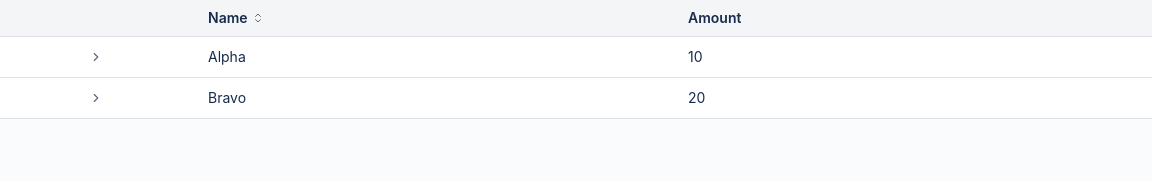
Test: <DataTable> › toggling the expand chevron mounts and unmounts the detail row in the DOM
Click the button named "expand row" at (96, 57), box [84,45,108,69]
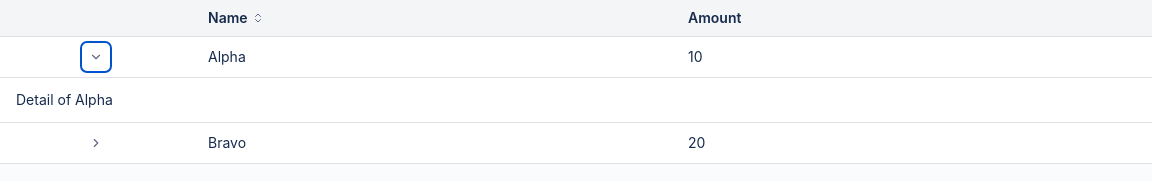
Now the text with test id "detail-content" reads "Detail of Alpha", box [16,91,113,108]
Click the button named "expand row" at (96, 57), box [84,45,108,69]
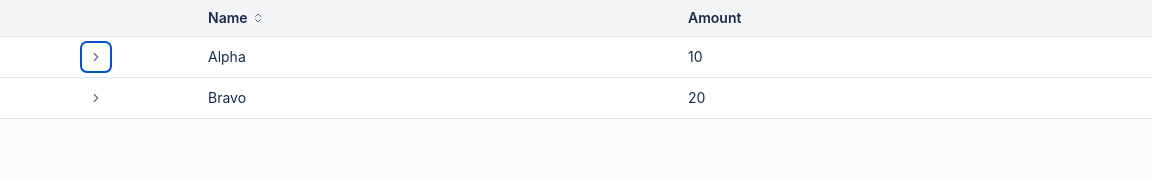
Now the text with test id "detail-content" is gone
